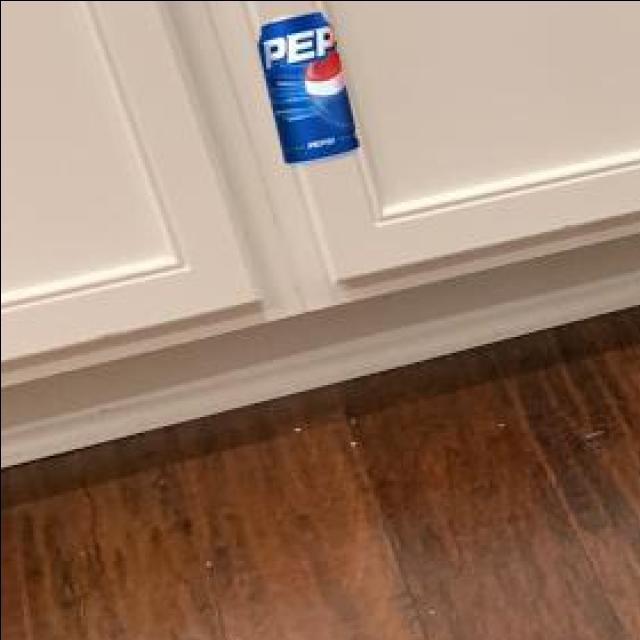logam: (255, 8, 353, 161)
